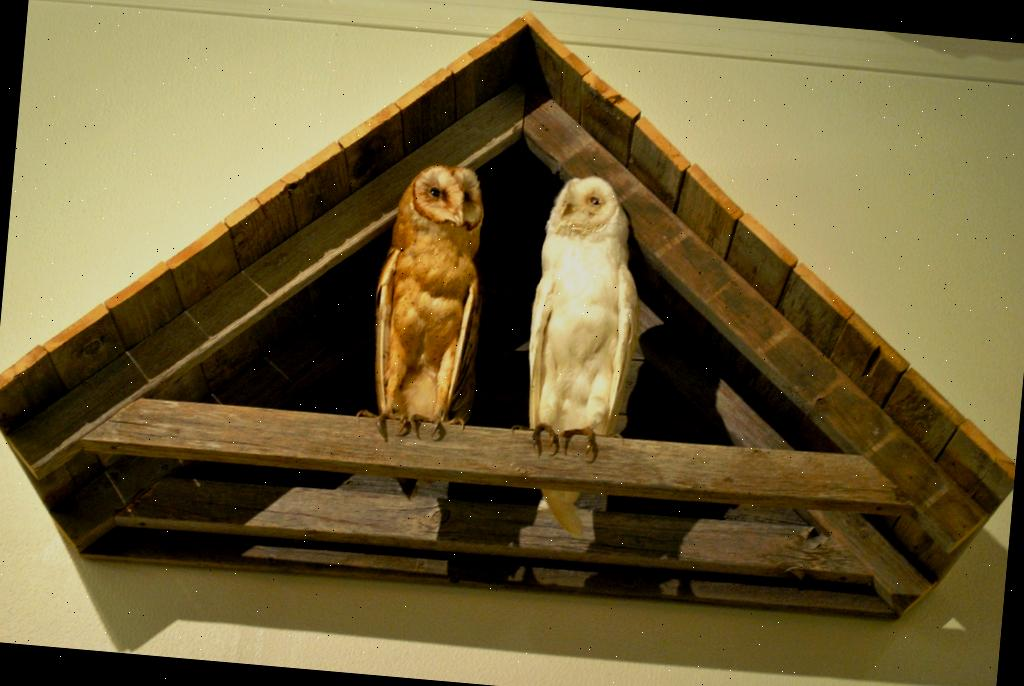Owl: (522, 168, 657, 468), (360, 155, 494, 448)
